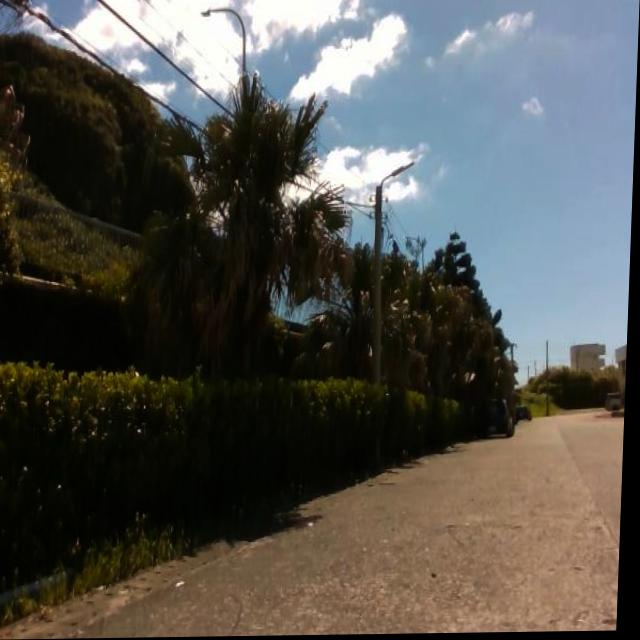pollute: (0, 630, 8, 640)
